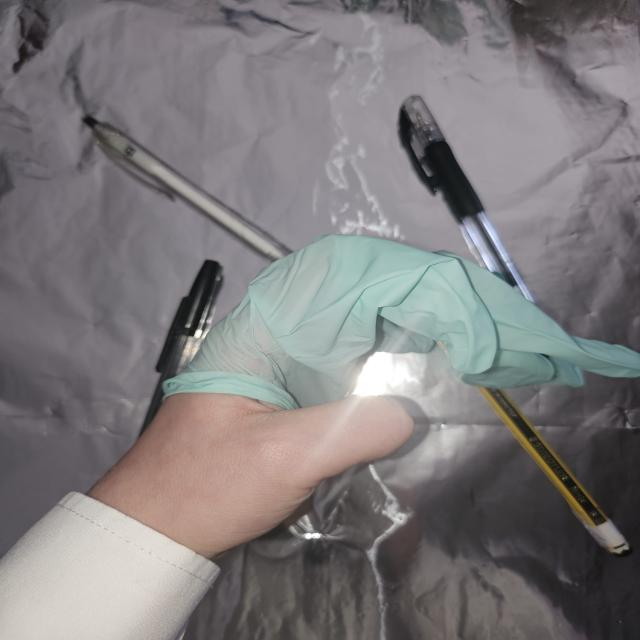glove_partial: (84, 233, 640, 562)
